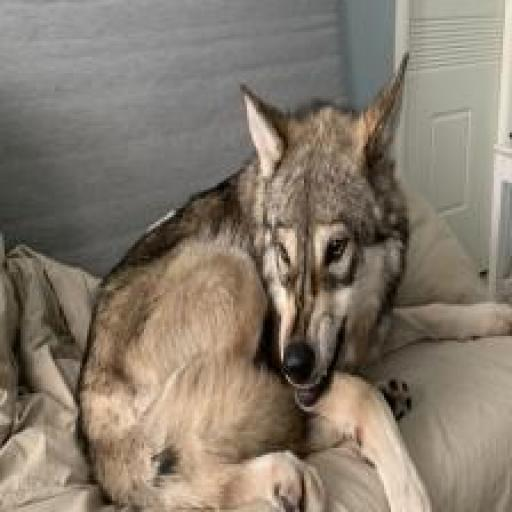wolf: (55, 50, 440, 512)
